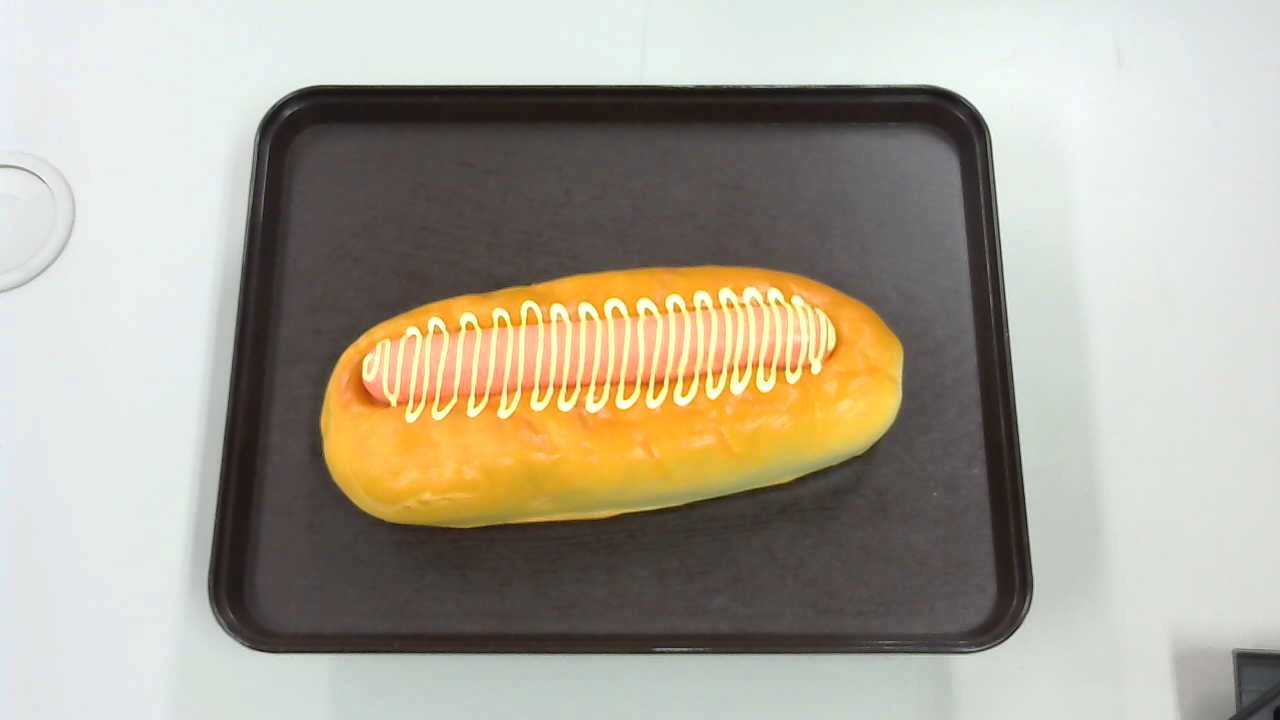hot dog: (319, 263, 904, 530)
